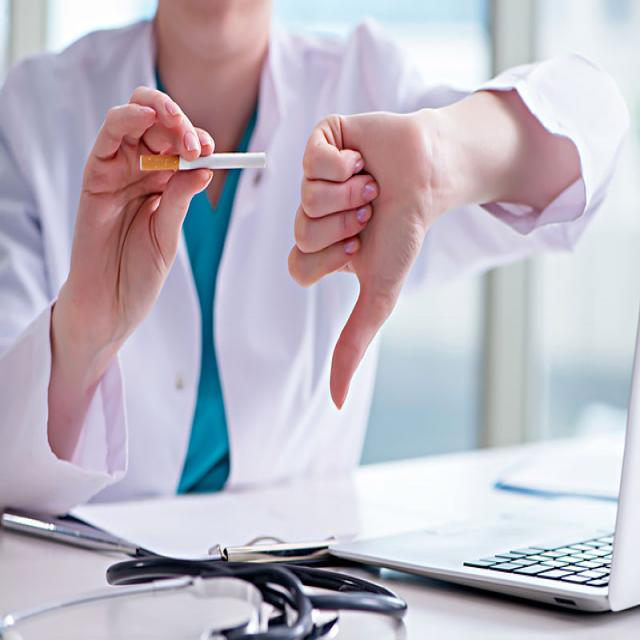smoking: (139, 152, 267, 172)
